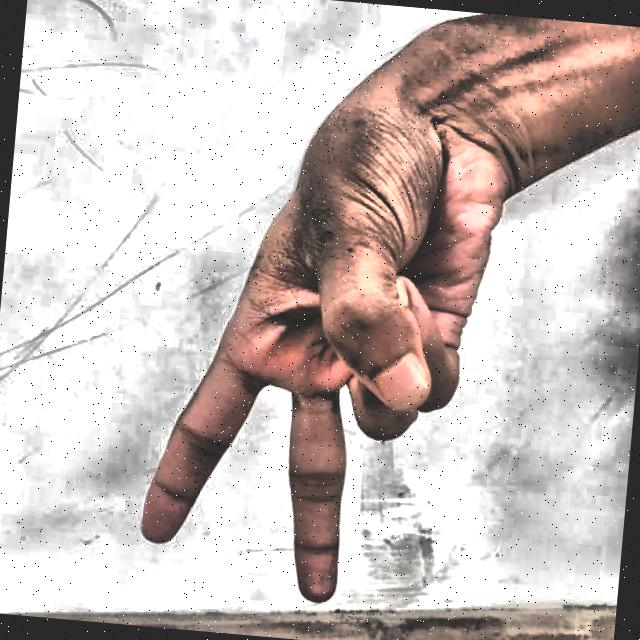Pa: (92, 40, 540, 638)
